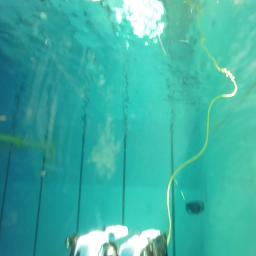Full: (185, 200, 206, 216)
front: (64, 223, 169, 256)
